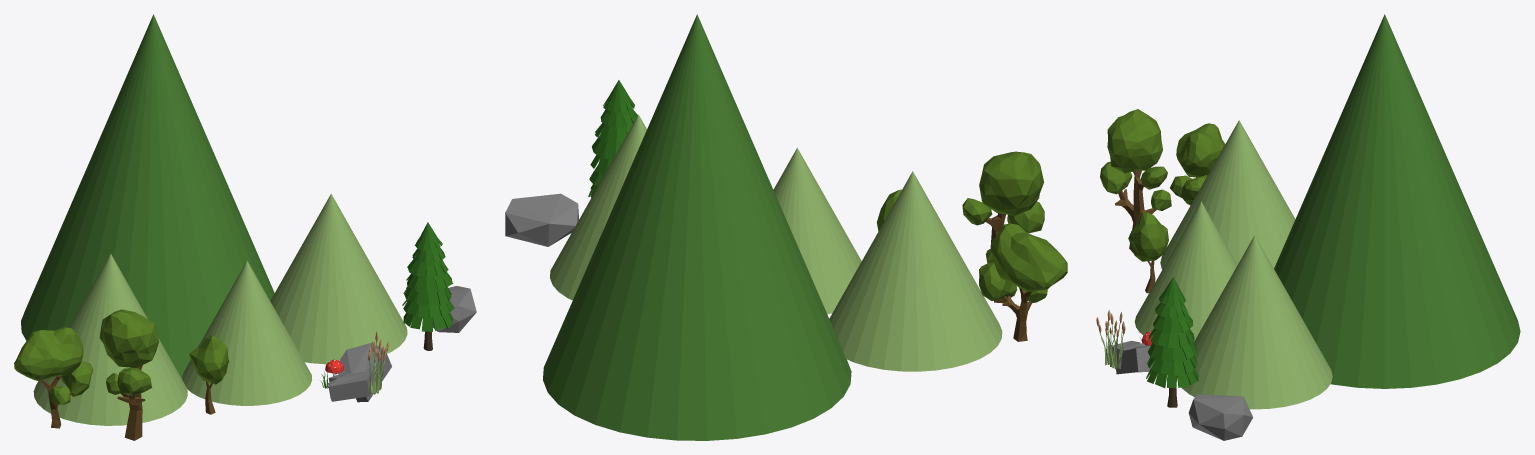
File: mountain.glb
3 views of the same model, side by side, from view 1: azimuth 30°, elevation 25°; view 2: azimuth 150°, elevation 25°; view 3: azimuth 270°, elevation 25° (orthographic). The views are drawn at different scales.
Parts seen in each view (by area): view 1: Cone.001, Cone, Cone.003, Cone.002, Tree1_2, Tree1_1, Tree3_1, Mushrooms_grass3, Tree1_4, Rock7; view 2: Cone.001, Cone.002, Cone.003, Tree1_1, Tree1_2, Cone, Rock7, Tree3_1; view 3: Cone.001, Cone, Cone.002, Cone.003, Tree1_2, Tree3_1, Tree1_1, Rock7, Mushrooms_grass3, Tree1_4.
Part boxes in pixels (x1,y1,x2,y2): Cone.001: (21, 14, 274, 379); Cone: (270, 194, 407, 364); Cone.003: (182, 260, 311, 405); Cone.002: (33, 253, 187, 425); Tree1_2: (99, 309, 158, 440); Tree1_1: (14, 327, 93, 428); Tree3_1: (402, 222, 454, 350); Mushrooms_grass3: (321, 331, 391, 402); Tree1_4: (189, 335, 229, 414); Rock7: (432, 286, 476, 332); Cone.001: (543, 14, 851, 440); Cone.002: (829, 171, 1002, 371); Cone.003: (773, 148, 861, 314); Tree1_1: (979, 223, 1067, 341); Tree1_2: (962, 151, 1044, 303); Cone: (550, 114, 646, 300); Rock7: (505, 193, 578, 246); Tree3_1: (588, 80, 637, 197); Cone.001: (1274, 14, 1520, 388); Cone: (1177, 235, 1332, 409); Cone.002: (1160, 120, 1295, 269); Cone.003: (1134, 201, 1237, 340); Tree1_2: (1100, 109, 1171, 252); Tree3_1: (1146, 277, 1198, 407); Tree1_1: (1170, 123, 1225, 205); Rock7: (1188, 394, 1253, 440); Mushrooms_grass3: (1096, 310, 1153, 374); Tree1_4: (1128, 211, 1168, 293).
Bounding box in the file's own units: 38.86 × 24.86 × 29.78.
